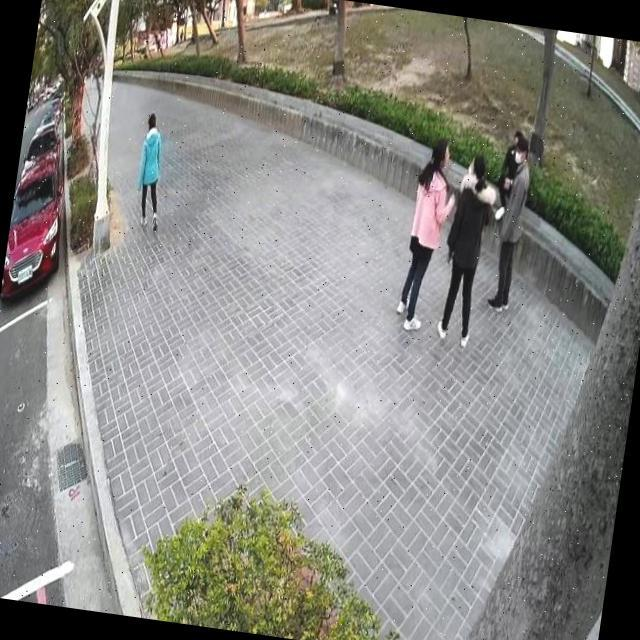person: (392, 130, 468, 340), (432, 144, 508, 352), (482, 127, 540, 315), (128, 100, 180, 238), (491, 125, 528, 226)
